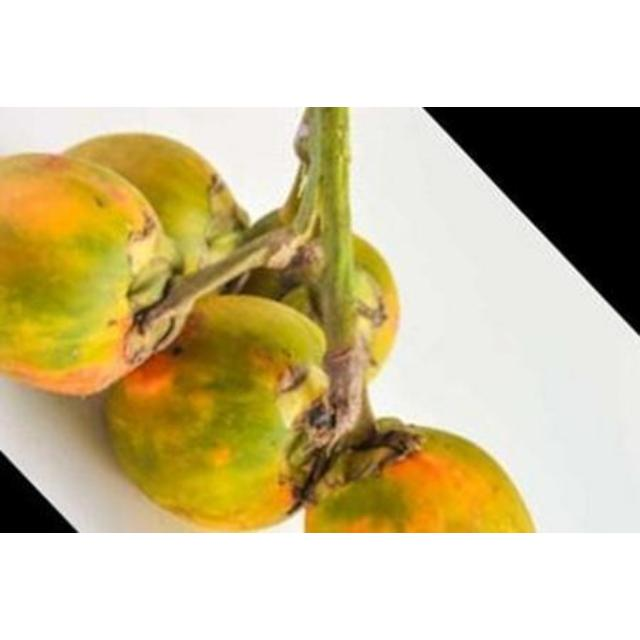good: (106, 298, 326, 530), (1, 154, 166, 392), (306, 424, 536, 534), (64, 134, 242, 276), (184, 294, 326, 396), (344, 236, 398, 374)
